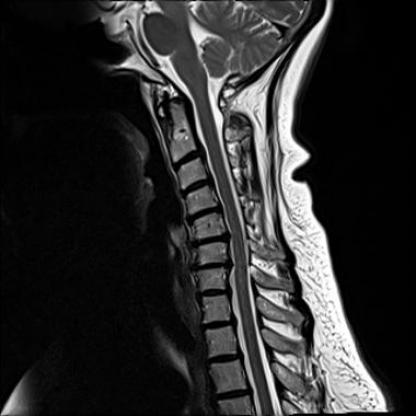Disc Bulgerotation: (190, 258, 233, 273), (190, 232, 233, 246)
